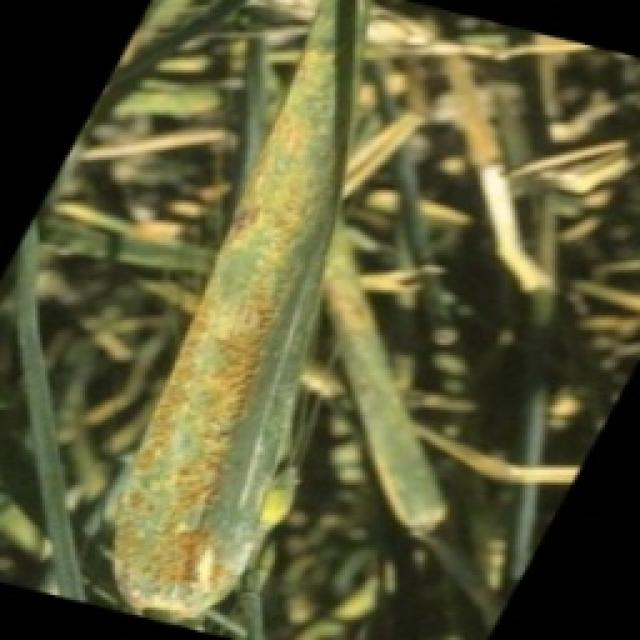Elderberry_rust: (105, 0, 370, 622)
